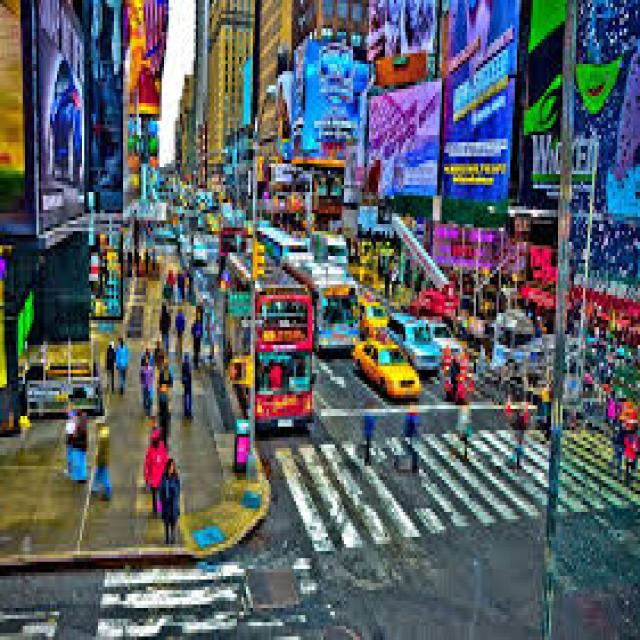Buses: (253, 288, 314, 434)
Passenger Car: (353, 341, 421, 402)
Pedestrians: (144, 427, 173, 519), (510, 394, 531, 476), (162, 458, 182, 540), (453, 391, 476, 459), (403, 398, 421, 480), (355, 405, 376, 466)
